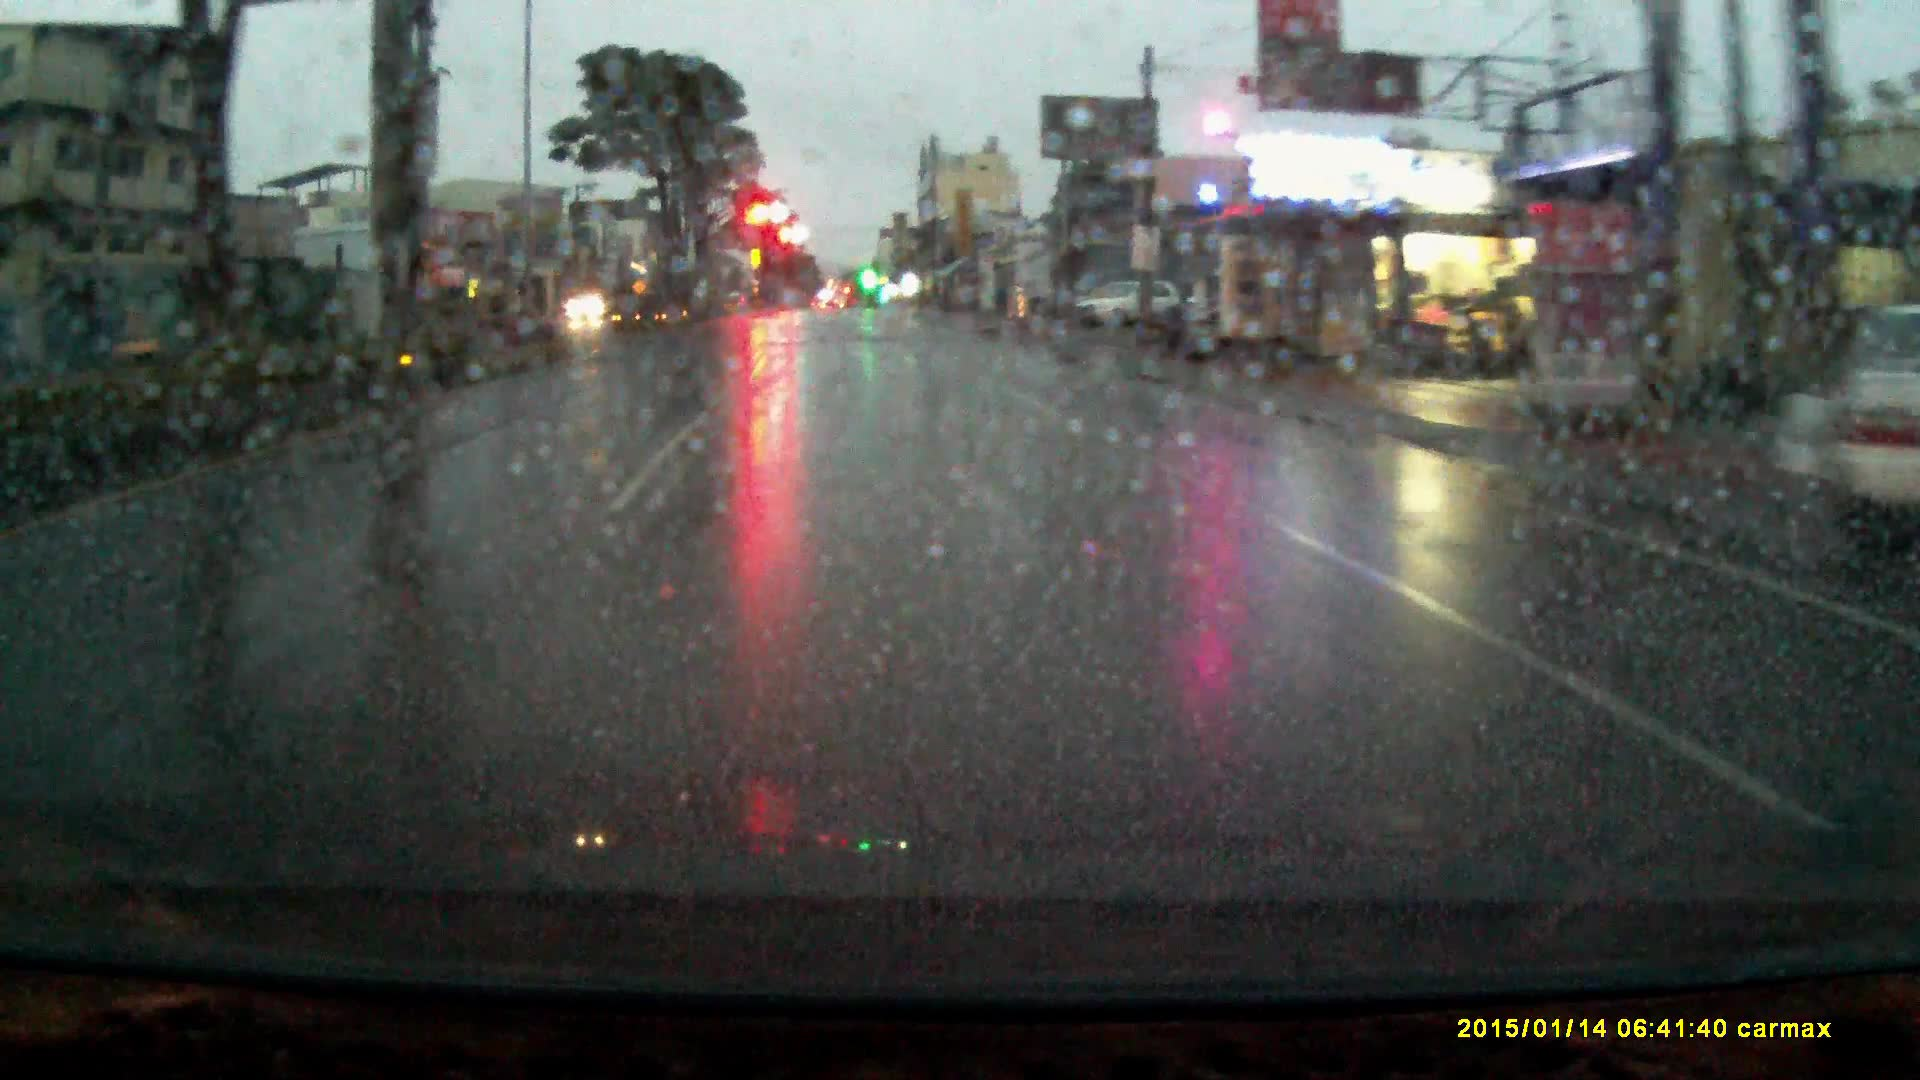vehicle: (1076, 284, 1185, 338), (566, 294, 615, 328)
